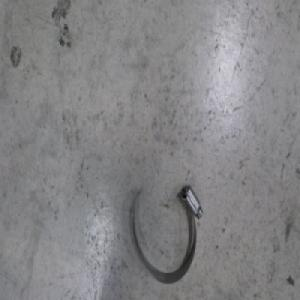AdjustableClamp: (128, 184, 202, 286)
